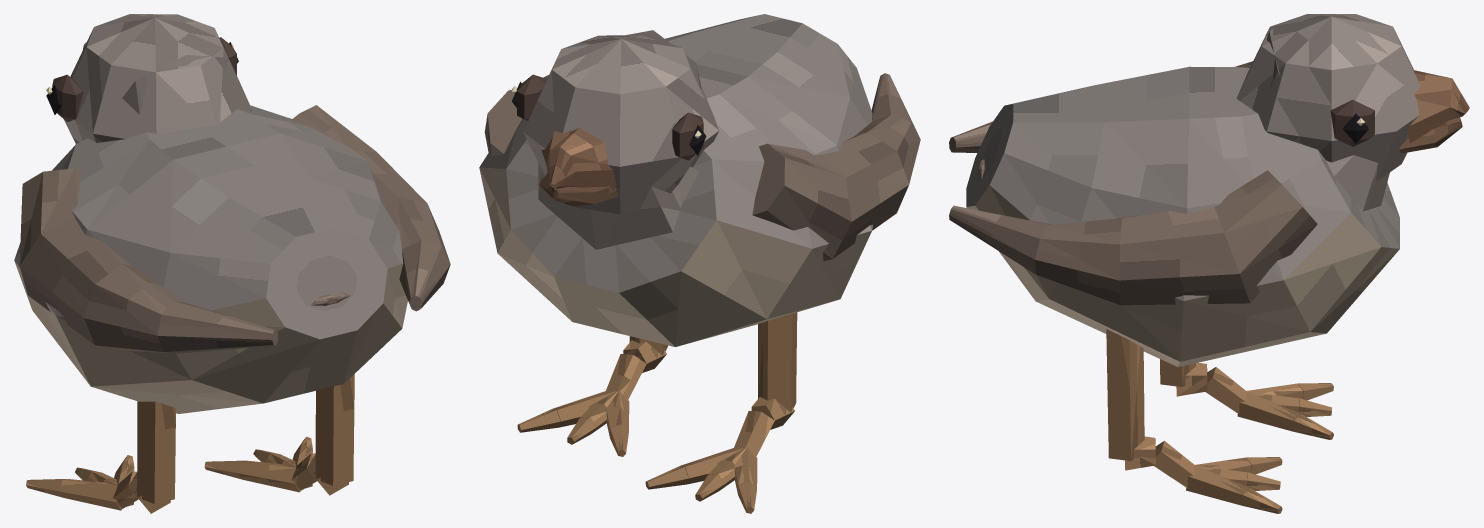
File: mon_sparrow_chick.glb
The picture shows the model from 3 angles, left to right: view 1: azimuth 30°, elevation 25°; view 2: azimuth 150°, elevation 25°; view 3: azimuth 270°, elevation 25°; orthographic projection.
Visible parts, largest first — view 1: closed_body; view 2: closed_body; view 3: closed_body.
Part boxes in pixels (bbox=[...]): closed_body: bbox=[14, 14, 450, 513]; closed_body: bbox=[479, 14, 920, 513]; closed_body: bbox=[949, 14, 1469, 513].
Size of the model in its own units: 0.0347 by 0.0402 by 0.0434.
Materials: 1 (1 with a texture image).
